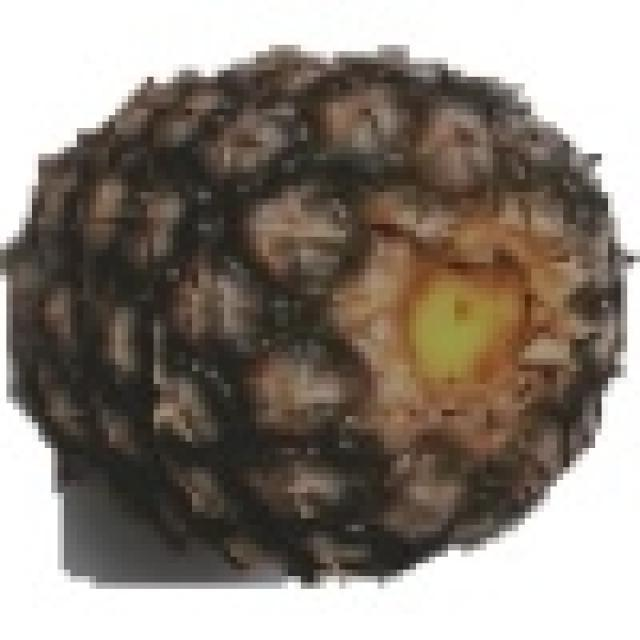pineapple: (19, 38, 627, 570)
